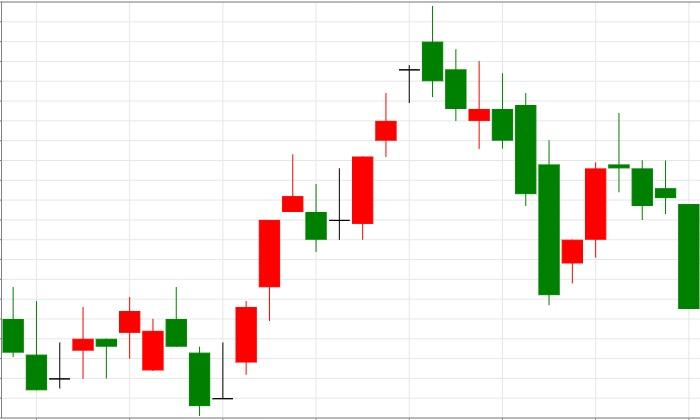evening_star_fall: (538, 113, 653, 306)
